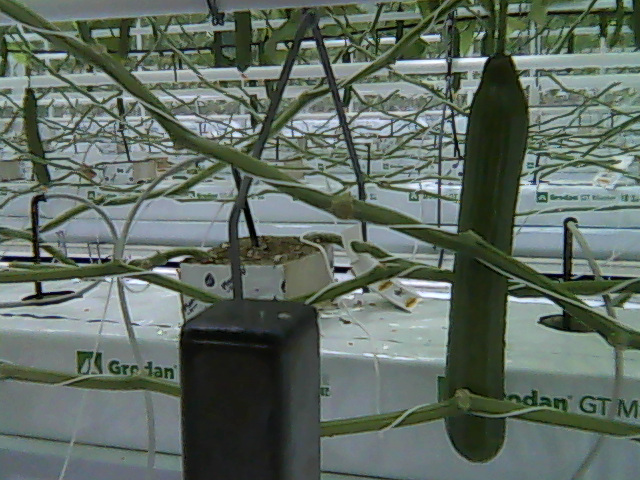concombre: (441, 42, 534, 467)
